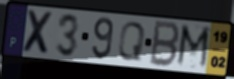3: (56, 13, 81, 59)
9: (91, 16, 115, 61)
B: (148, 19, 182, 70)
M: (174, 23, 213, 72)
Q: (116, 20, 148, 62)
X: (21, 8, 56, 57)
